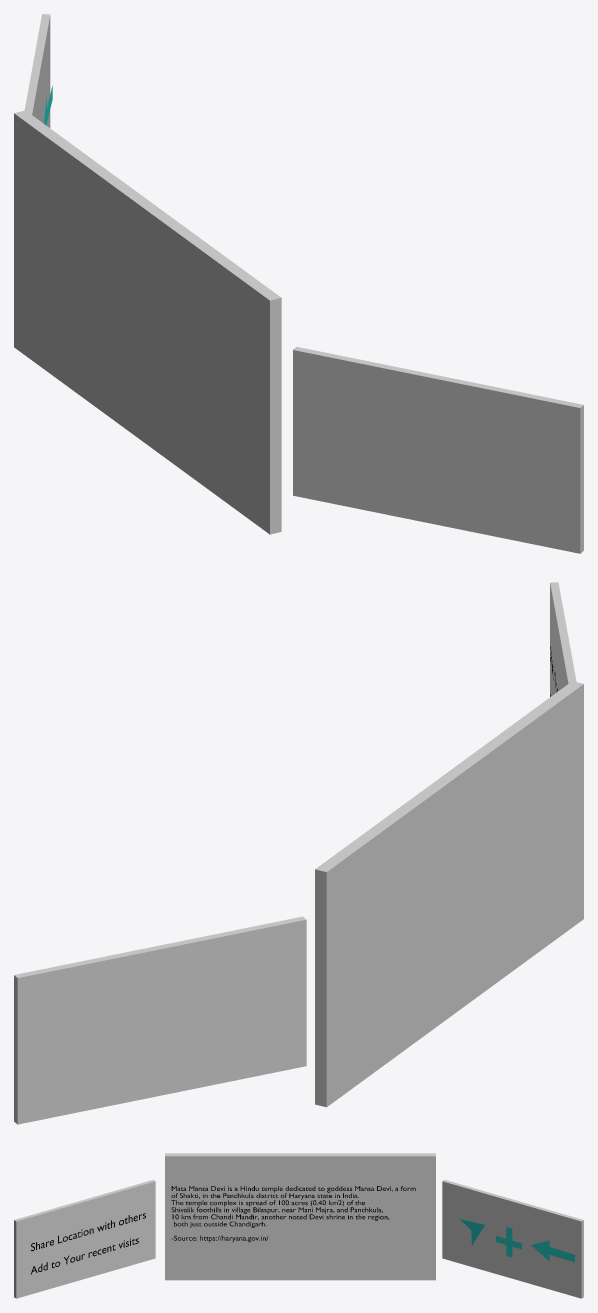
Rendered from MansaDevi.fbx.
3 renders of one model, top to bottom at view 1: azimuth 30°, elevation 25°; view 2: azimuth 150°, elevation 25°; view 3: azimuth 270°, elevation 25°, orthographic. The views are drawn at different scales.
Parts seen in each view (by area): view 1: Cube.002; view 2: Cube.002; view 3: Cube.002, Text, Text.001, Plane.002, Plane.001, Plane.
Boxes of the visible parts, x1,y1,x2,y2 form: Cube.002: (14, 14, 583, 553); Cube.002: (14, 582, 583, 1124); Cube.002: (14, 1153, 583, 1298); Text: (171, 1186, 415, 1242); Text.001: (31, 1213, 145, 1274); Plane.002: (531, 1240, 574, 1262); Plane.001: (496, 1227, 521, 1257); Plane: (460, 1219, 484, 1245).
Size of the model in its own units: 110 by 141 by 588.
